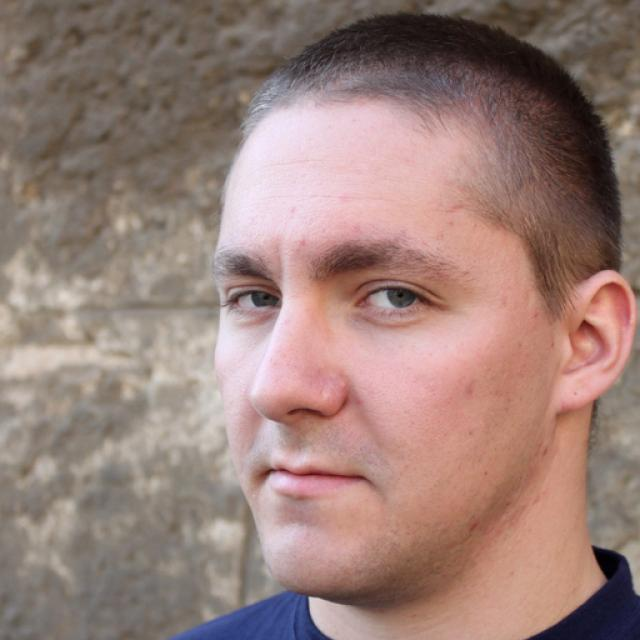neutral: (210, 94, 552, 598)
